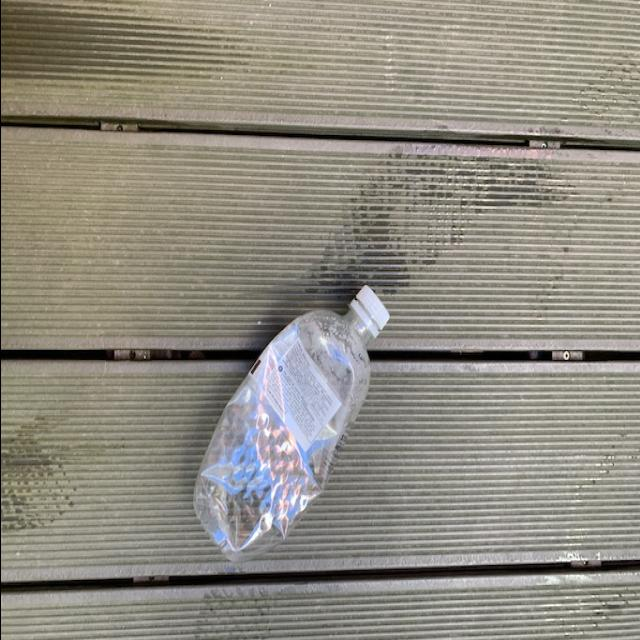PET: (180, 277, 390, 568)
